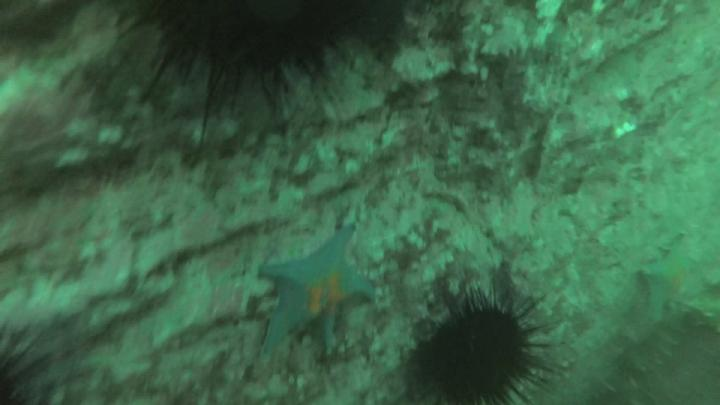echinus: (117, 1, 386, 138), (421, 282, 552, 405)
holothurian: (615, 308, 689, 387), (675, 293, 720, 339)
starfish: (256, 223, 380, 370), (639, 237, 715, 331)
